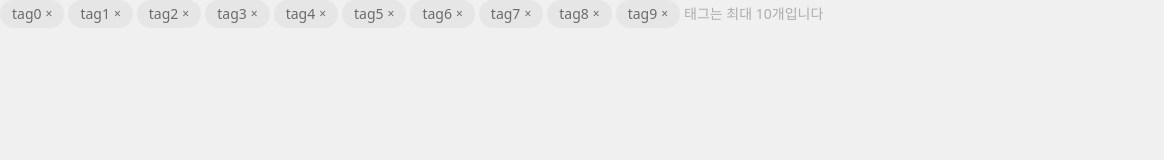
Test: TagInput › should 칩을 하나 삭제하면 input이 다시 활성화된다 when 10개에서 9개가 된다
The image size is (1164, 160).
Check: the field is disabled, box [684, 4, 1152, 24]
What coordinates should you click on to do the following:
click the button named "tag0 삭제"
I would click on:
 (49, 14)
Its box is [46, 6, 52, 22].
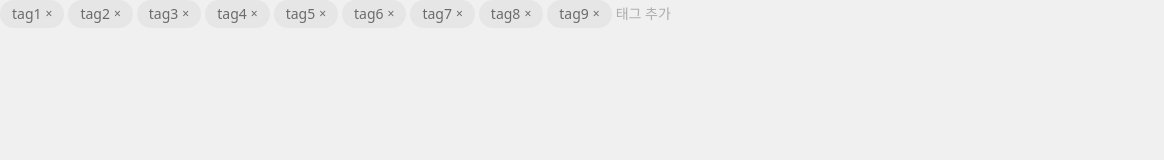
Check: the field is enabled, box [616, 4, 1152, 24]
